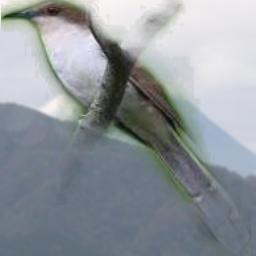Cuckoo: (1, 0, 251, 256)
